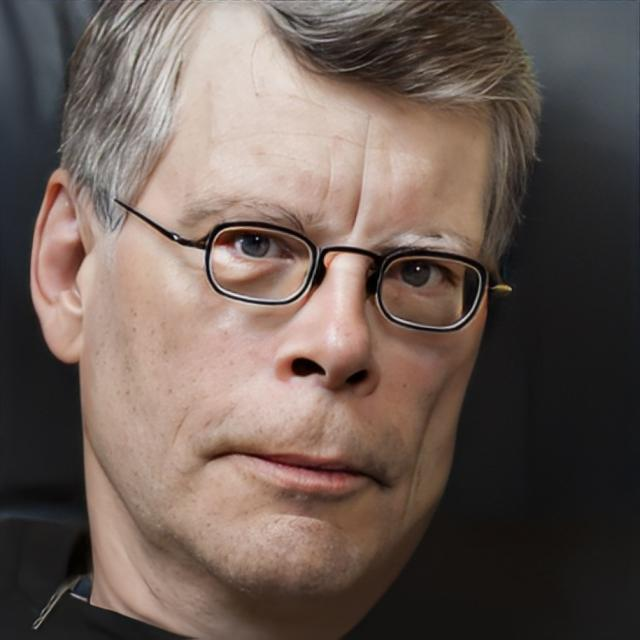anger: (94, 82, 489, 600)
